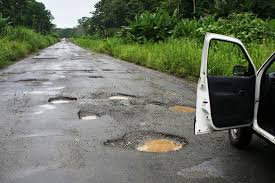pothole: (109, 129, 192, 159), (40, 92, 80, 106), (103, 87, 140, 102), (162, 101, 197, 115), (76, 109, 106, 123), (13, 75, 51, 86), (88, 74, 107, 79)
